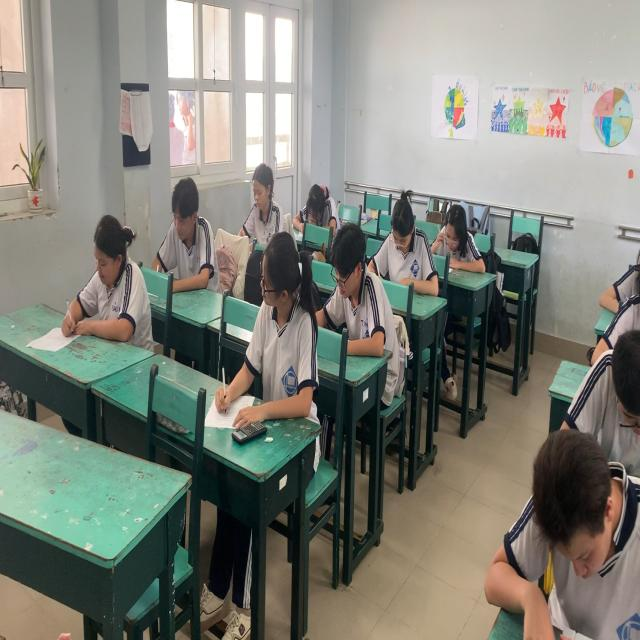cheating: (321, 223, 402, 351), (250, 237, 310, 388)
not_cheating: (501, 419, 633, 640), (74, 212, 146, 364), (166, 178, 212, 281), (381, 188, 427, 291), (441, 198, 478, 278), (293, 178, 340, 233), (247, 164, 286, 226)
